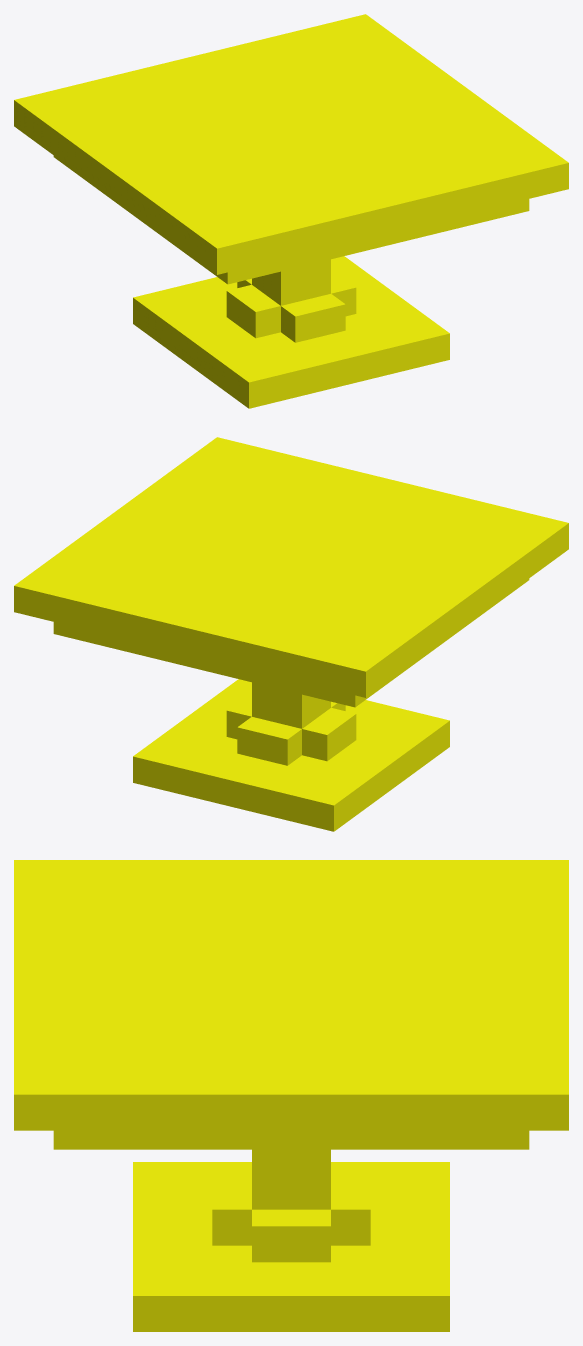
The model's file is voxel-rangers-table.glb.
The picture shows the model from 3 angles, top to bottom: view 1: azimuth 30°, elevation 25°; view 2: azimuth 150°, elevation 25°; view 3: azimuth 270°, elevation 25°; orthographic projection. The views are drawn at different scales.
Parts seen in each view (by area): view 1: ObjObject.010; view 2: ObjObject.010; view 3: ObjObject.010.
Boxes of the visible parts, x1,y1,x2,y2 form: ObjObject.010: (14,14,568,408); ObjObject.010: (14,437,568,831); ObjObject.010: (14,860,568,1331).
Size of the model in its own units: 1.4 by 0.8001 by 1.4.
